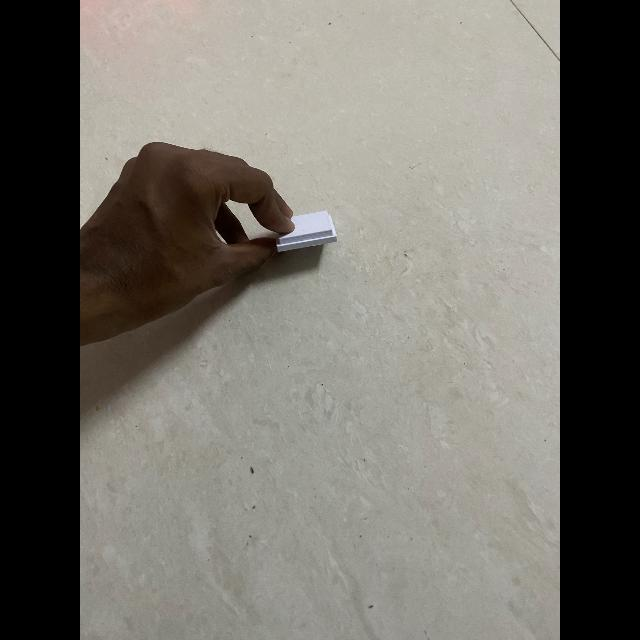RASPBERY PI CAM ENCLOSURE: (276, 210, 338, 252)
